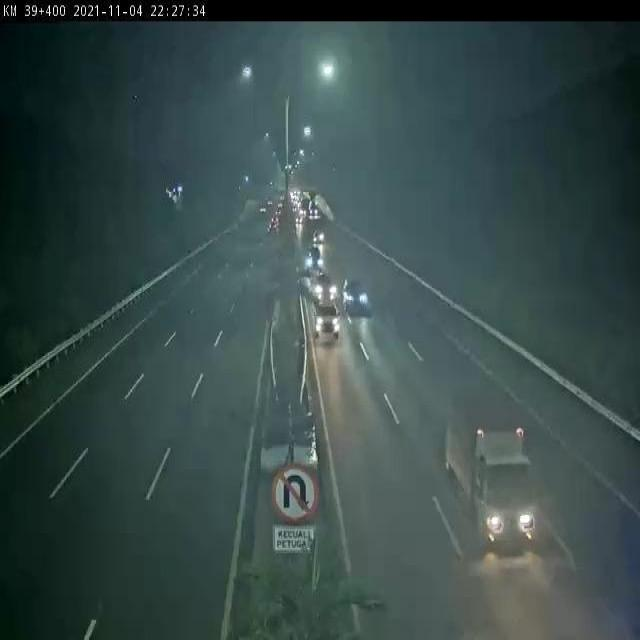car: (341, 280, 371, 316), (314, 302, 341, 338), (315, 275, 337, 304)
truck-s-: (447, 393, 537, 547)
